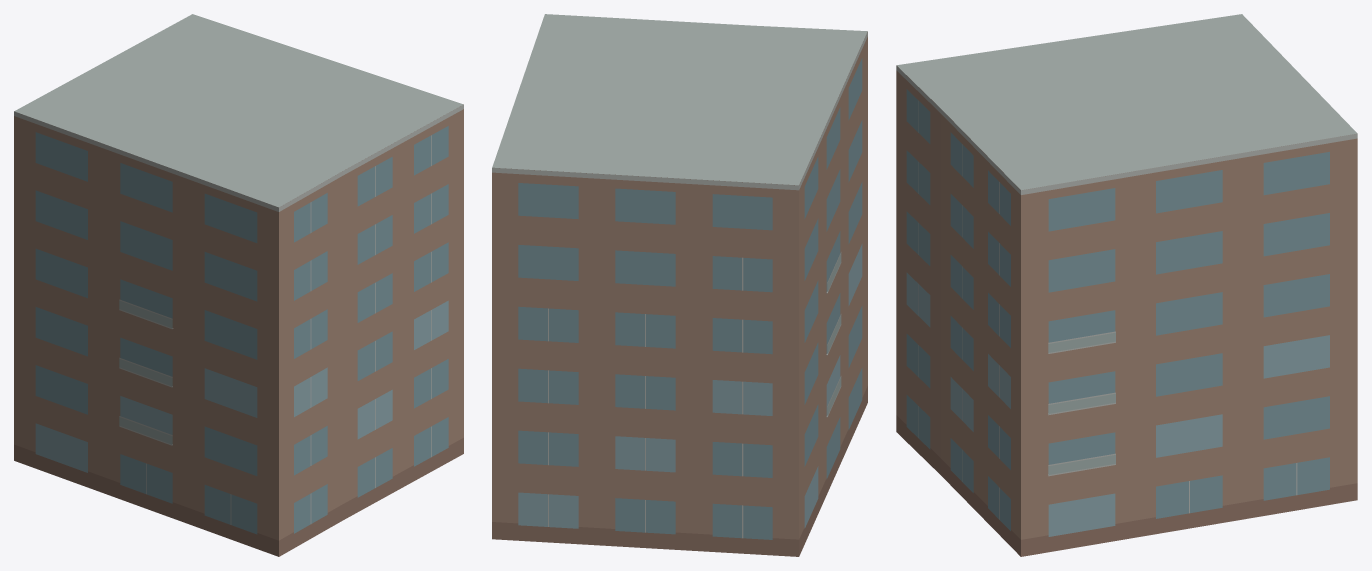
The model's file is survey-upis-32692864.glb.
3 views of the same model, side by side, from view 1: azimuth 30°, elevation 25°; view 2: azimuth 150°, elevation 25°; view 3: azimuth 270°, elevation 25° (orthographic). The views are drawn at different scales.
Visible parts, largest first — view 1: survey-upis-32692864.tmp; view 2: survey-upis-32692864.tmp; view 3: survey-upis-32692864.tmp.
Boxes of the visible parts, bbox=[...] form: survey-upis-32692864.tmp: bbox=[14, 14, 463, 556]; survey-upis-32692864.tmp: bbox=[492, 14, 867, 556]; survey-upis-32692864.tmp: bbox=[896, 14, 1357, 556].
Bounding box in the file's own units: 18.88 × 18.3 × 20.88.
